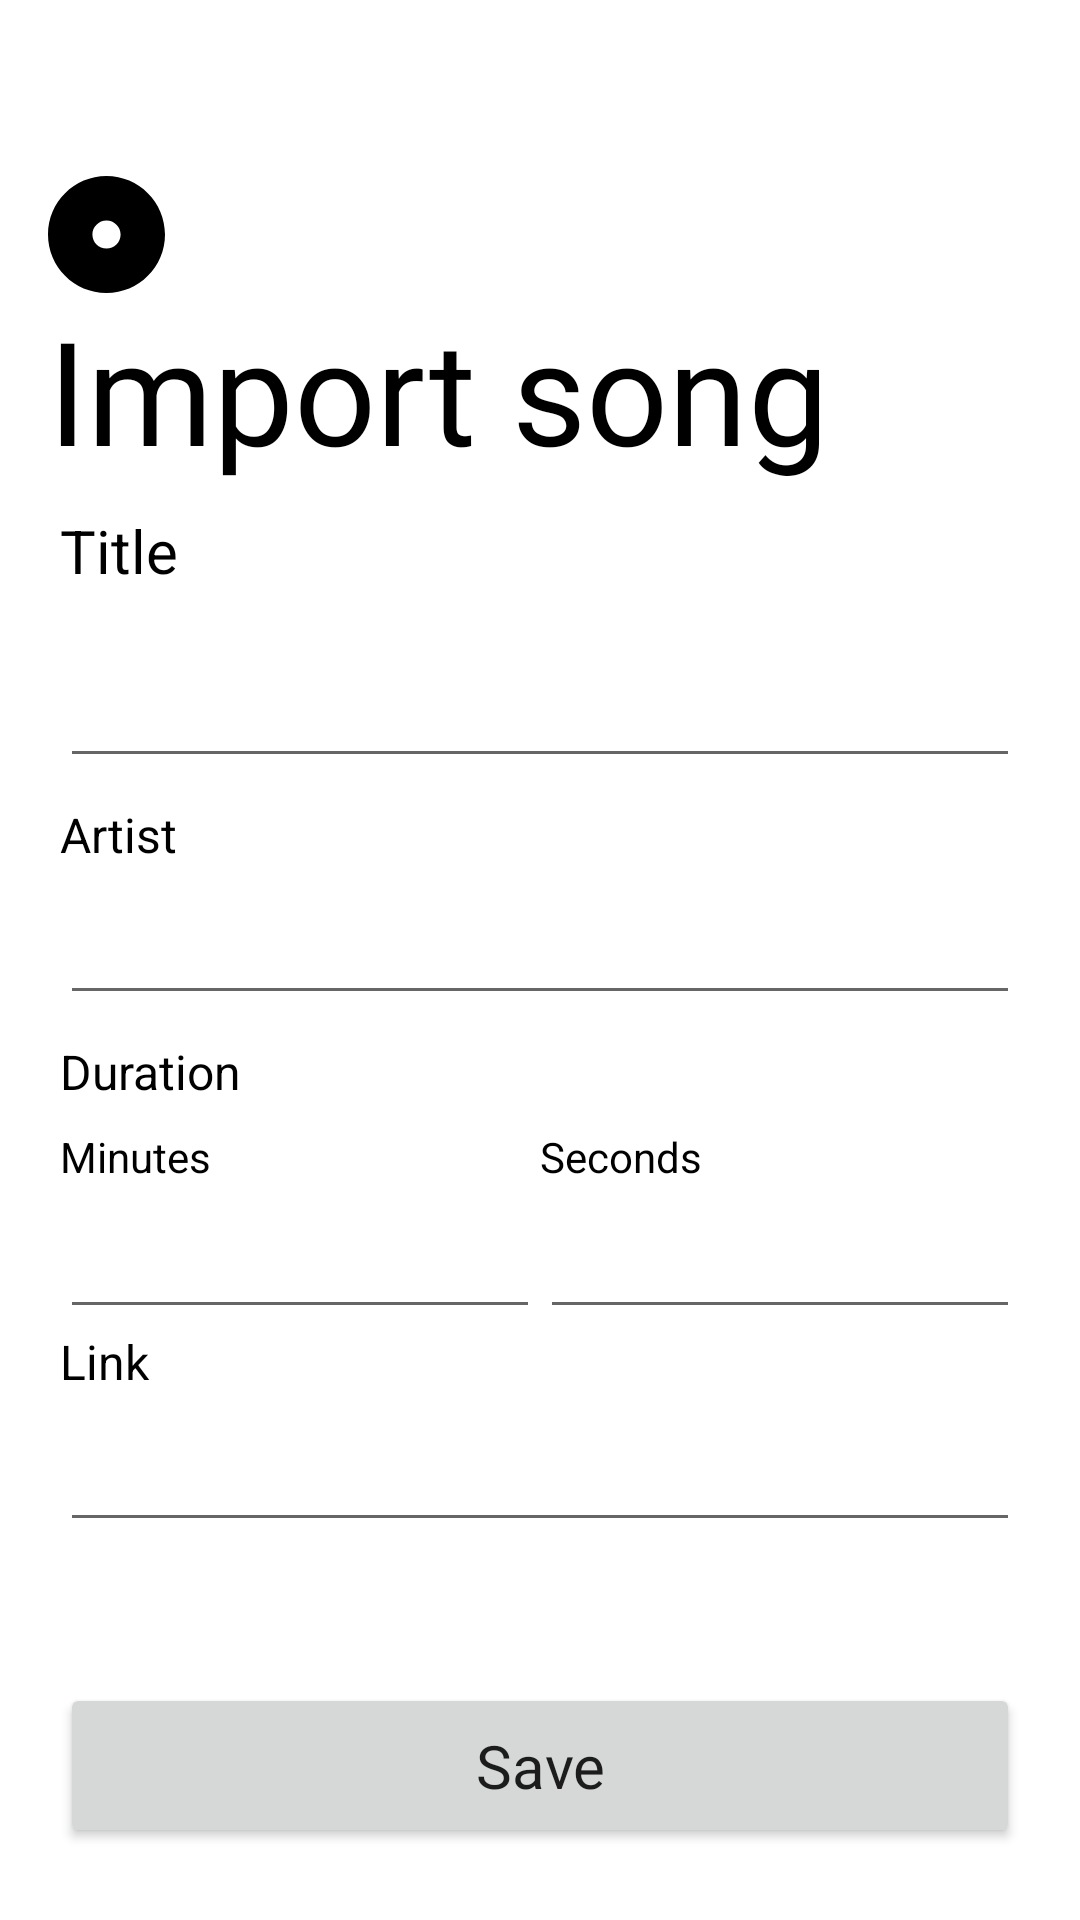

Screen size 1080x1920. Icon name, then its center in pixels as (x=x, y=y):
disc: (x=106, y=234)
